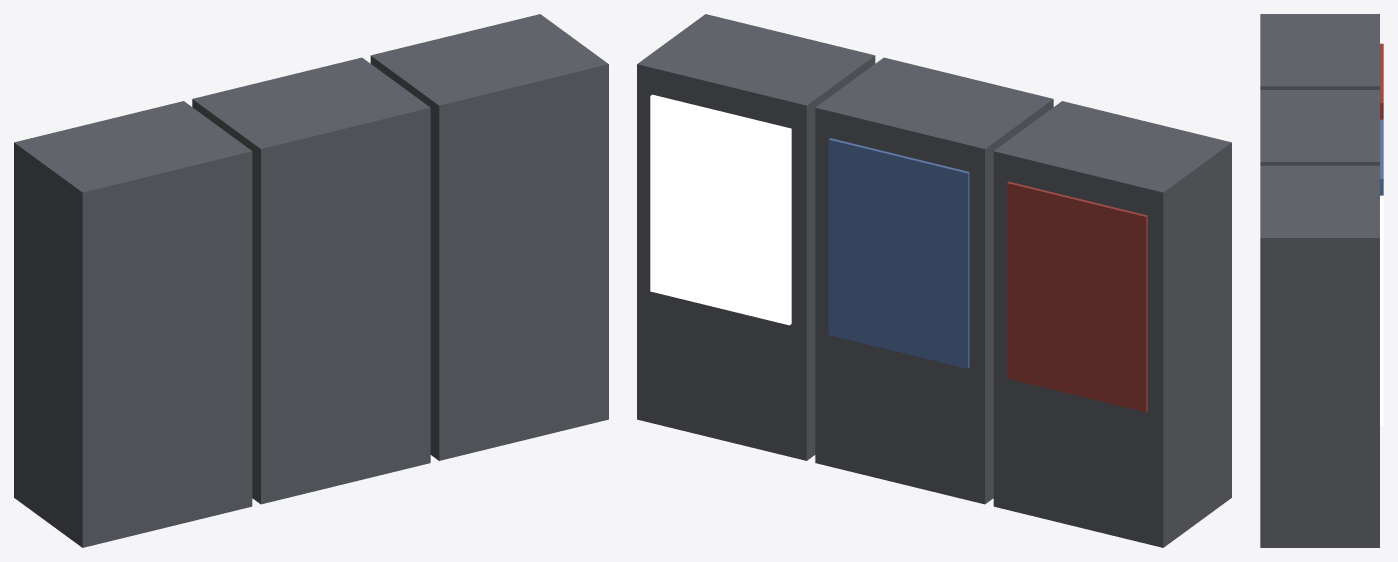
The model's file is prop_jihanki_retsu.glb.
3 renders of one model, left to right at view 1: azimuth 30°, elevation 25°; view 2: azimuth 150°, elevation 25°; view 3: azimuth 270°, elevation 25°, orthographic. The views are drawn at different scales.
Visible parts, largest first — view 1: jihanki_retsu; view 2: jihanki_retsu; view 3: jihanki_retsu.
Boxes of the visible parts, x1,y1,x2,y2 form: jihanki_retsu: (14, 14, 608, 547); jihanki_retsu: (637, 14, 1231, 547); jihanki_retsu: (1260, 14, 1383, 547).
Size of the model in its own units: 3.1 by 2 by 0.72.
